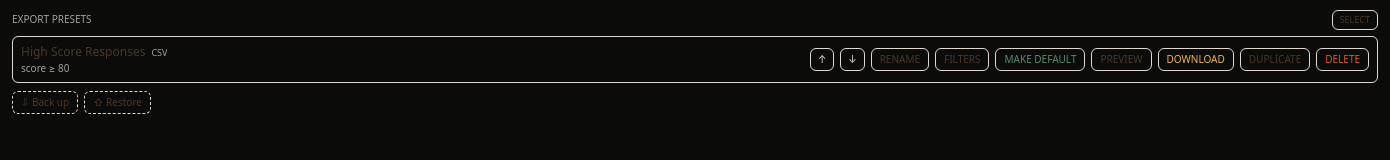
Test: ExportPresetsPanel › downloads a preset through the redirecting use endpoint
The width and height of the screenshot is (1390, 160).
Click the button with aria-label "download export preset high score responses" at point(1196, 59), box x1=1158 y1=48 x2=1234 y2=70
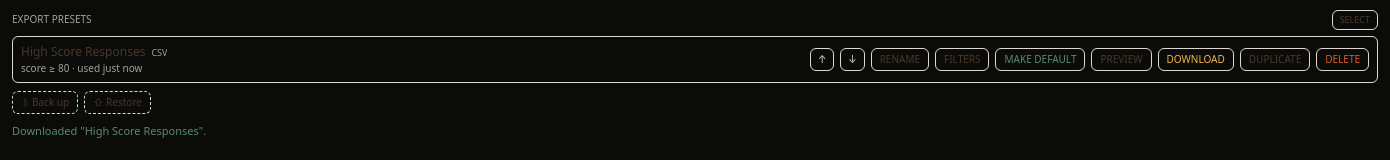
expect the message reads "Downloaded \"High Score Responses\".": met, box x1=12 y1=122 x2=206 y2=138
